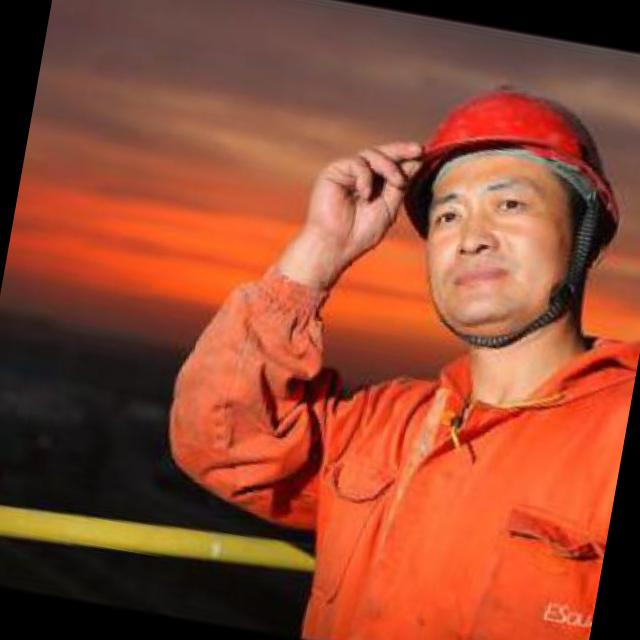helmet: (363, 47, 640, 377)
